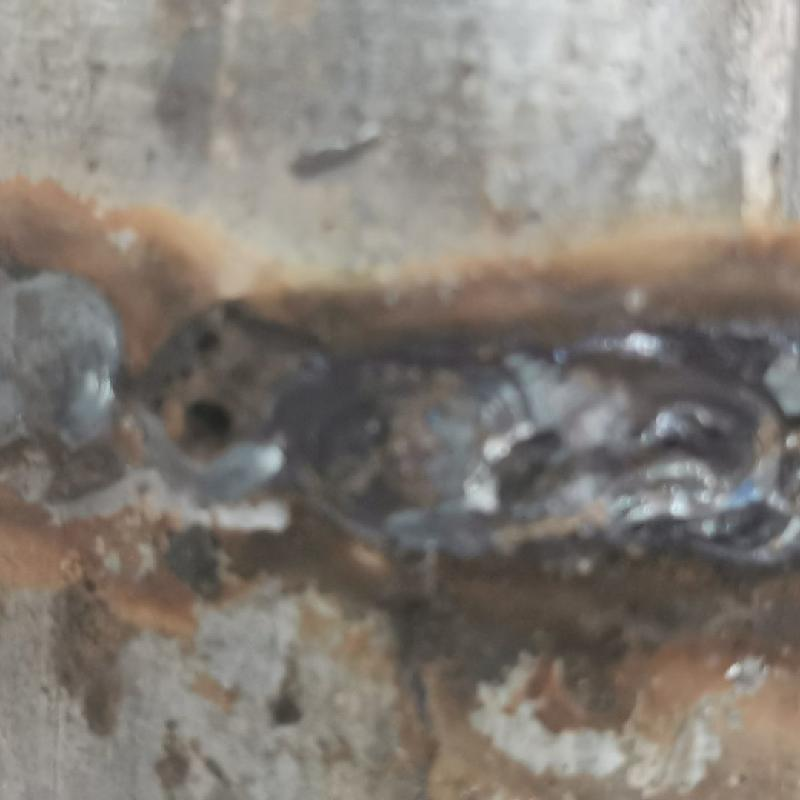Surface_pores: (133, 325, 243, 465)
crater: (293, 364, 799, 567)
